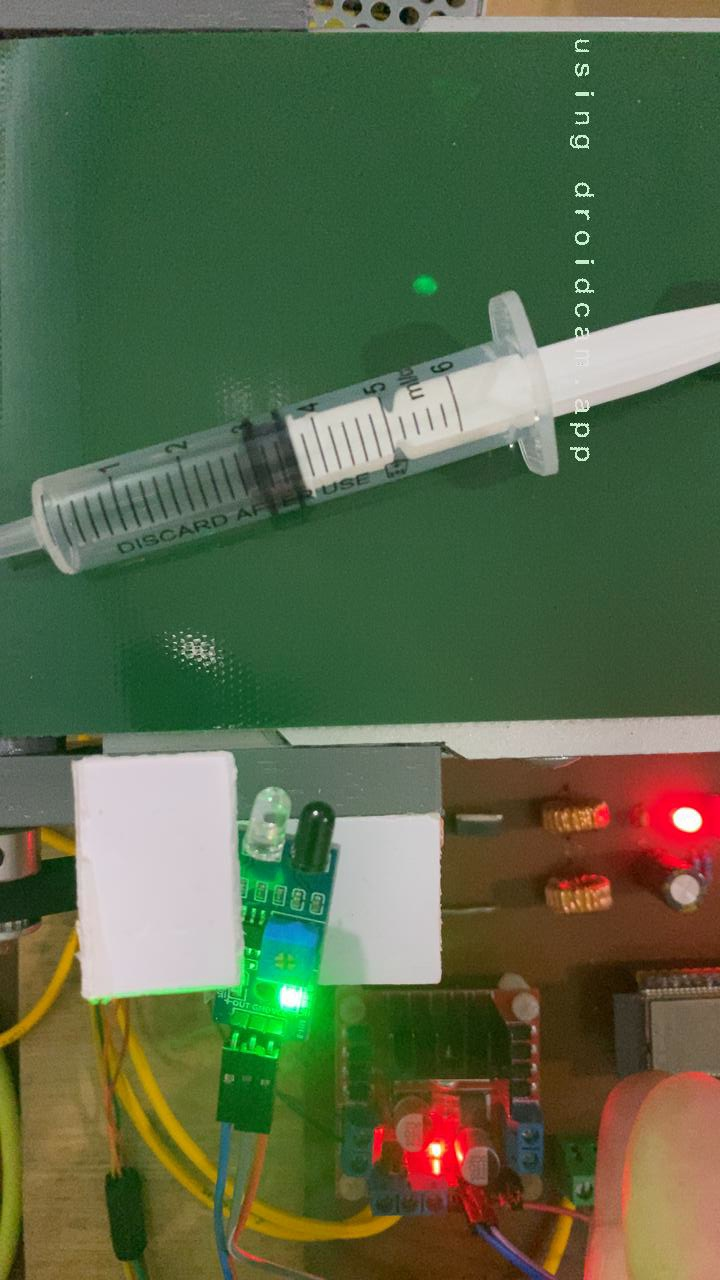syringe: (255, 285, 720, 503)
